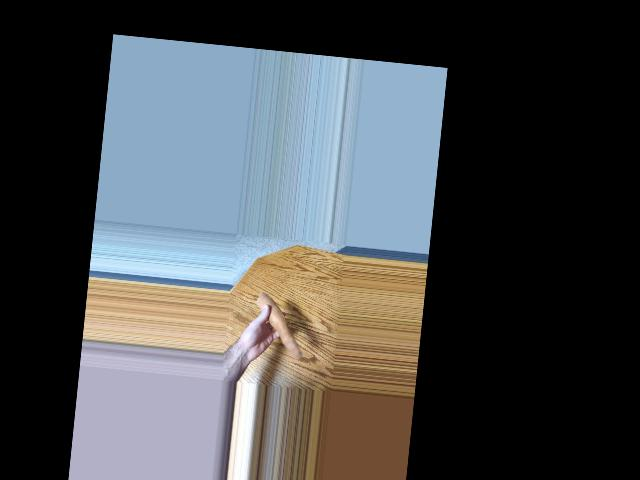sweet_potato: (250, 297, 305, 358)
